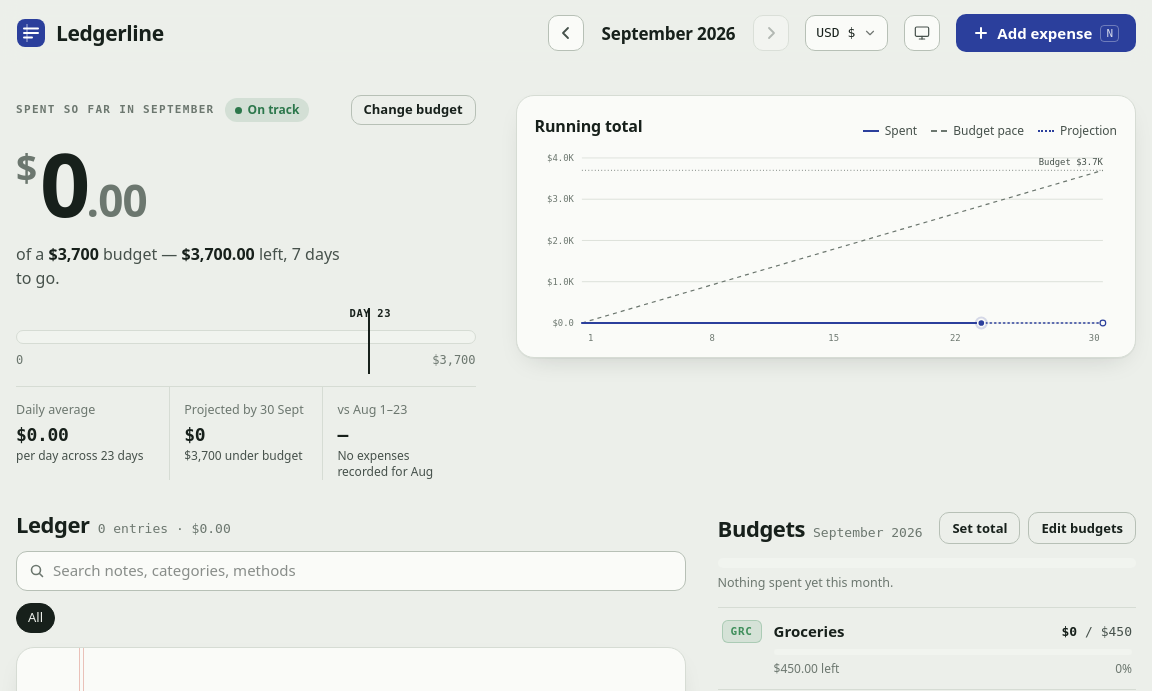
Test case: MonthlyBudgetDialog › validates the amount
The image size is (1152, 691).
Click the button "Set total".
click(980, 528)  # box [940,512,1020,544]
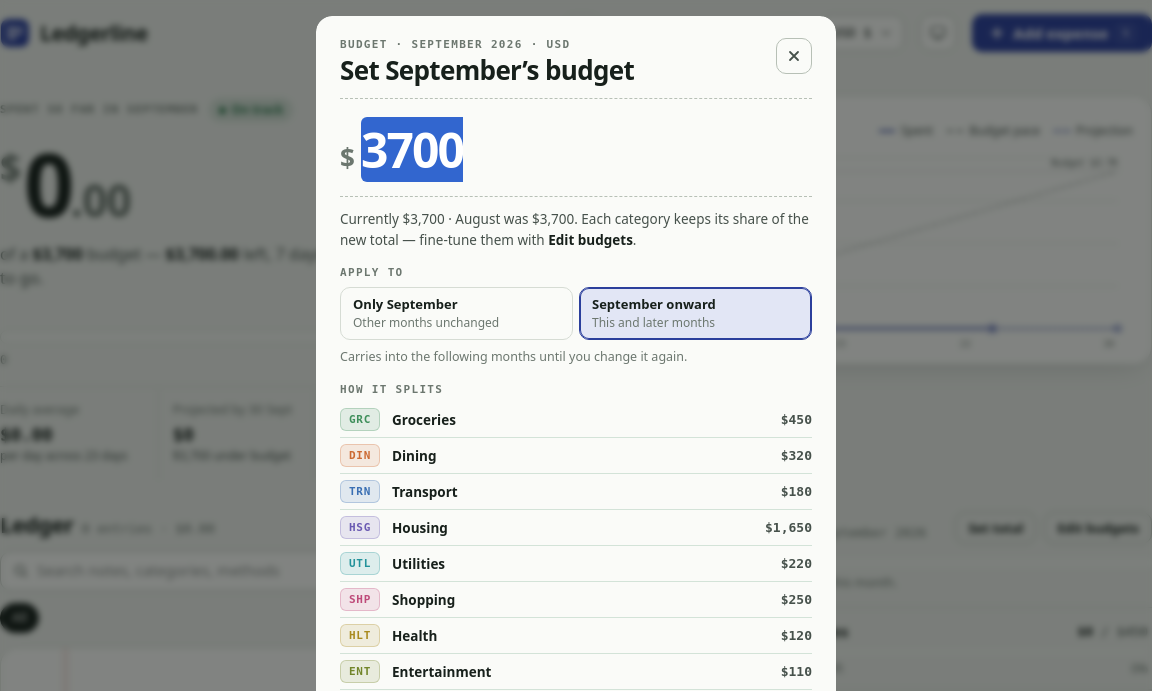
Clear the field named "budget" at (586, 150), box [361,118,812,182]
(page scrolled)
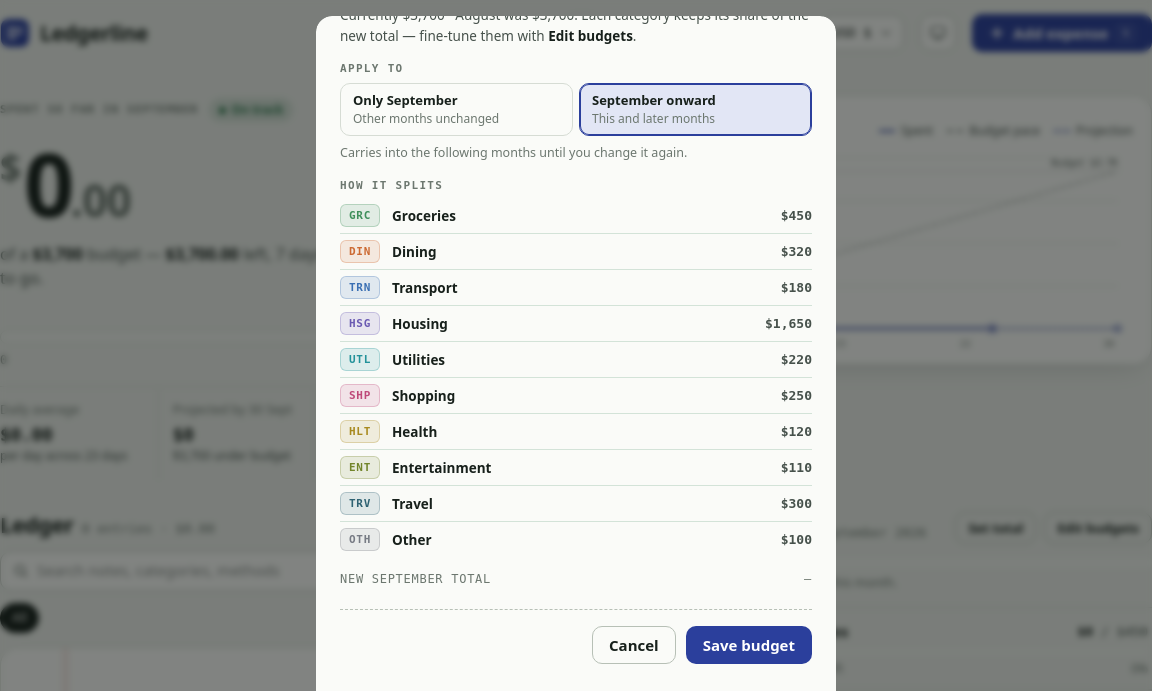
Click the button "Save budget".
click(749, 645)  # box [686,626,812,664]
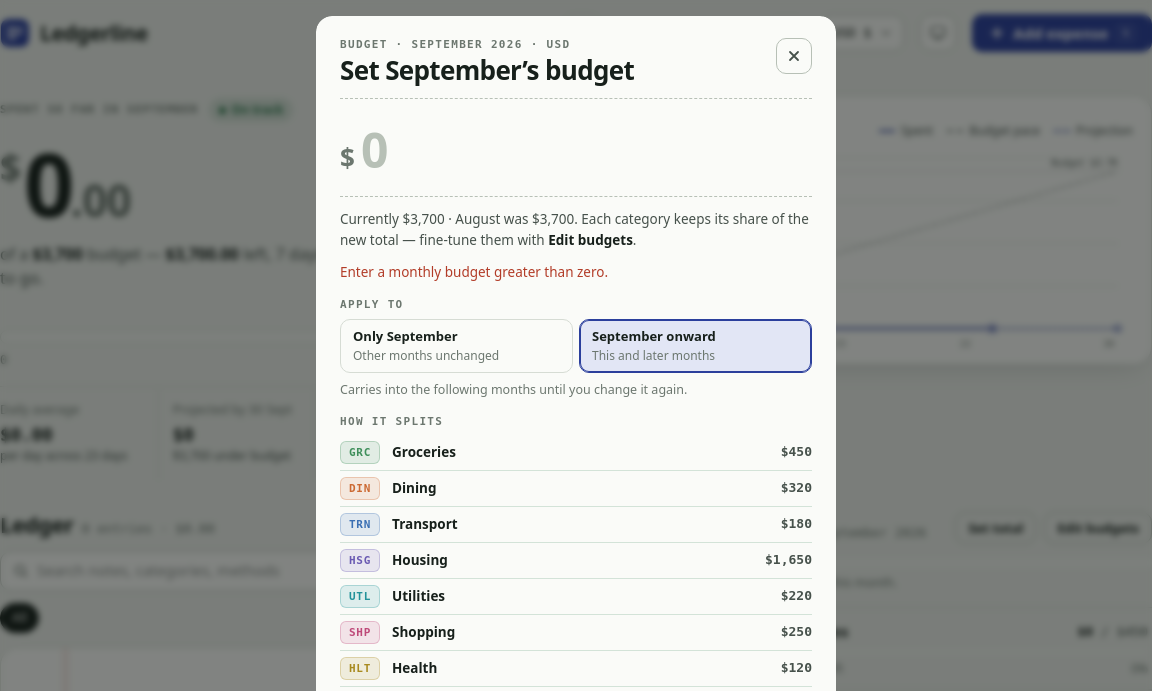
Expected: the message reads "Enter a monthly budget greater than zero.", [340,263,608,281]
